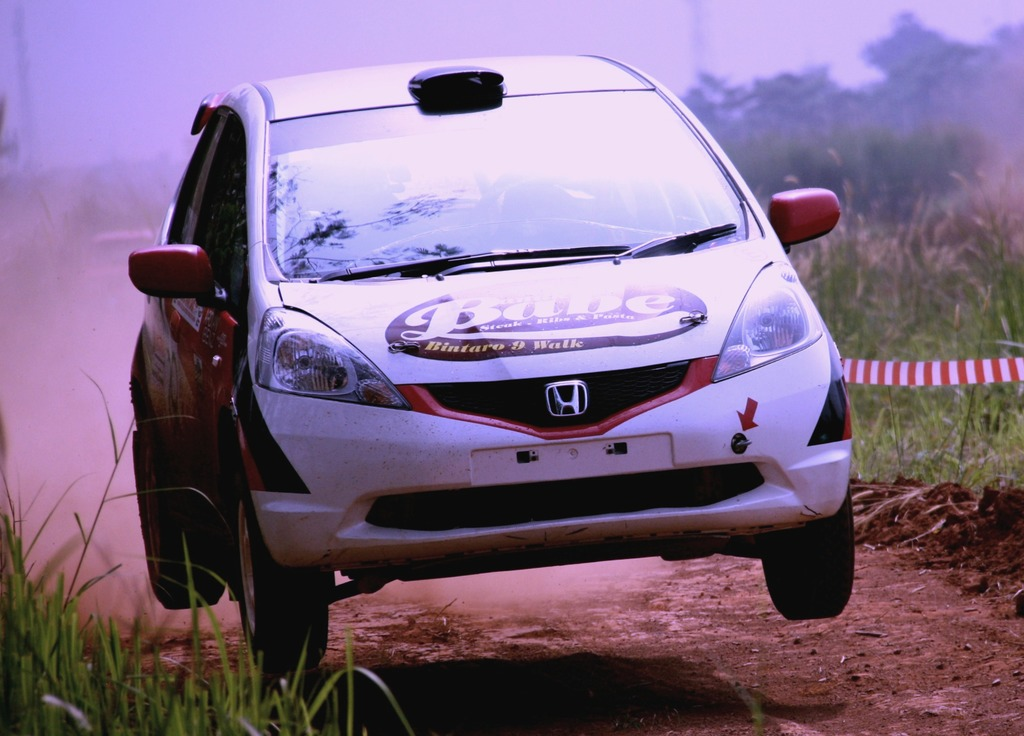Car: (126, 51, 852, 666)
